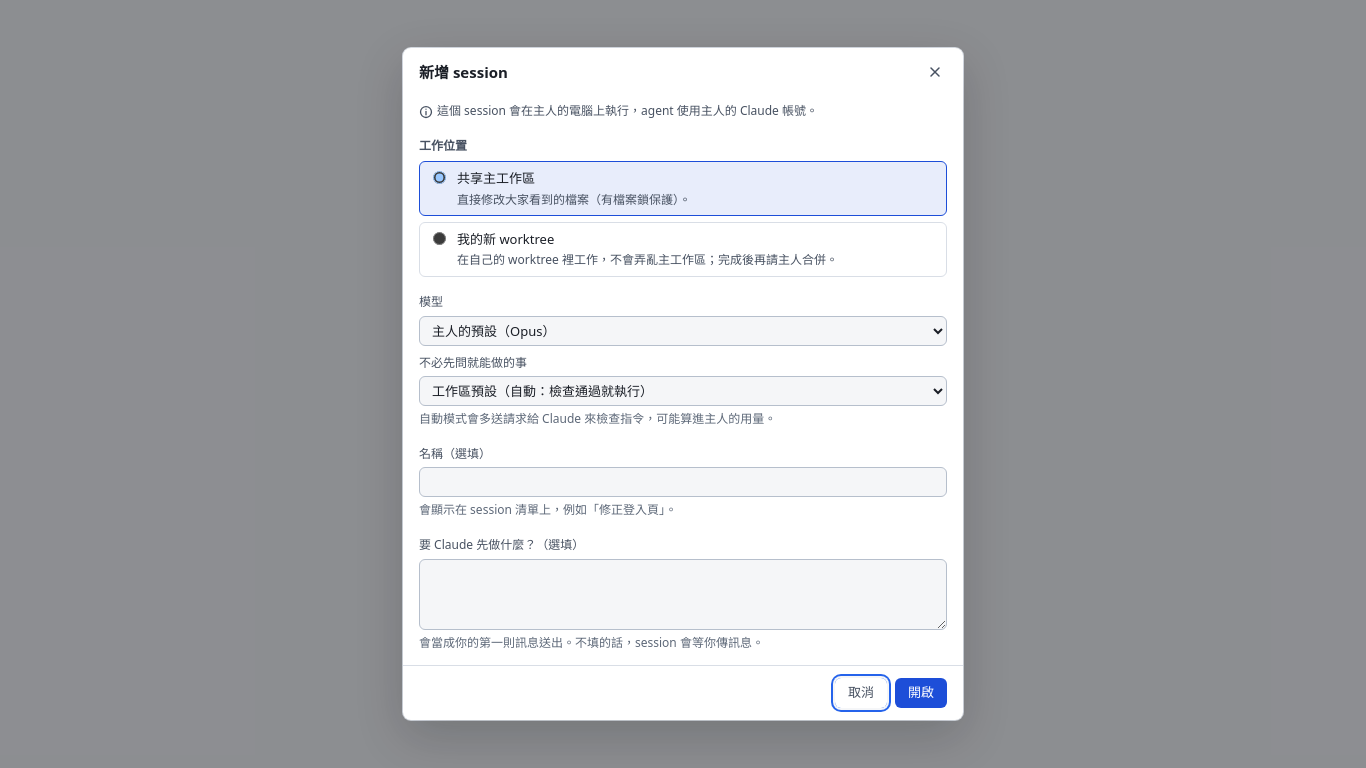
it: new session dialog in zh-TW: git › the model and what it may do without asking, in the words of the zh-TW catalogue
Select "Fable · Fable 5.1 · Billed to usage credits on some plans" in the dropdown labelled "模型" at (683, 330), box [419,316,947,346]
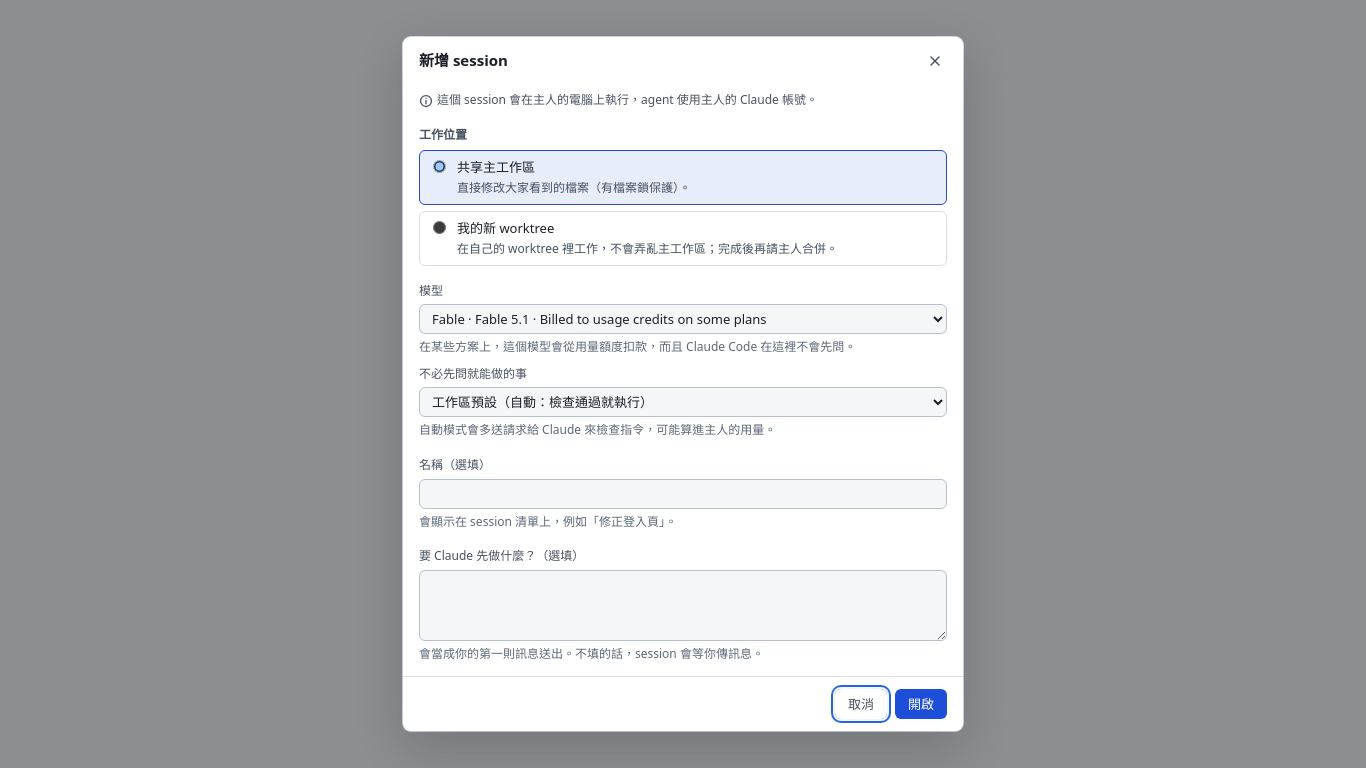
Expected: the text "自動模式會多送請求給 Claude 來檢查指令，可能算進主人的用量。" is shown, [419,421,776,438]
Expected: the text "在某些方案上，這個模型會從用量額度扣款，而且 Claude Code 在這裡不會先問。" is shown, [419,338,856,355]
